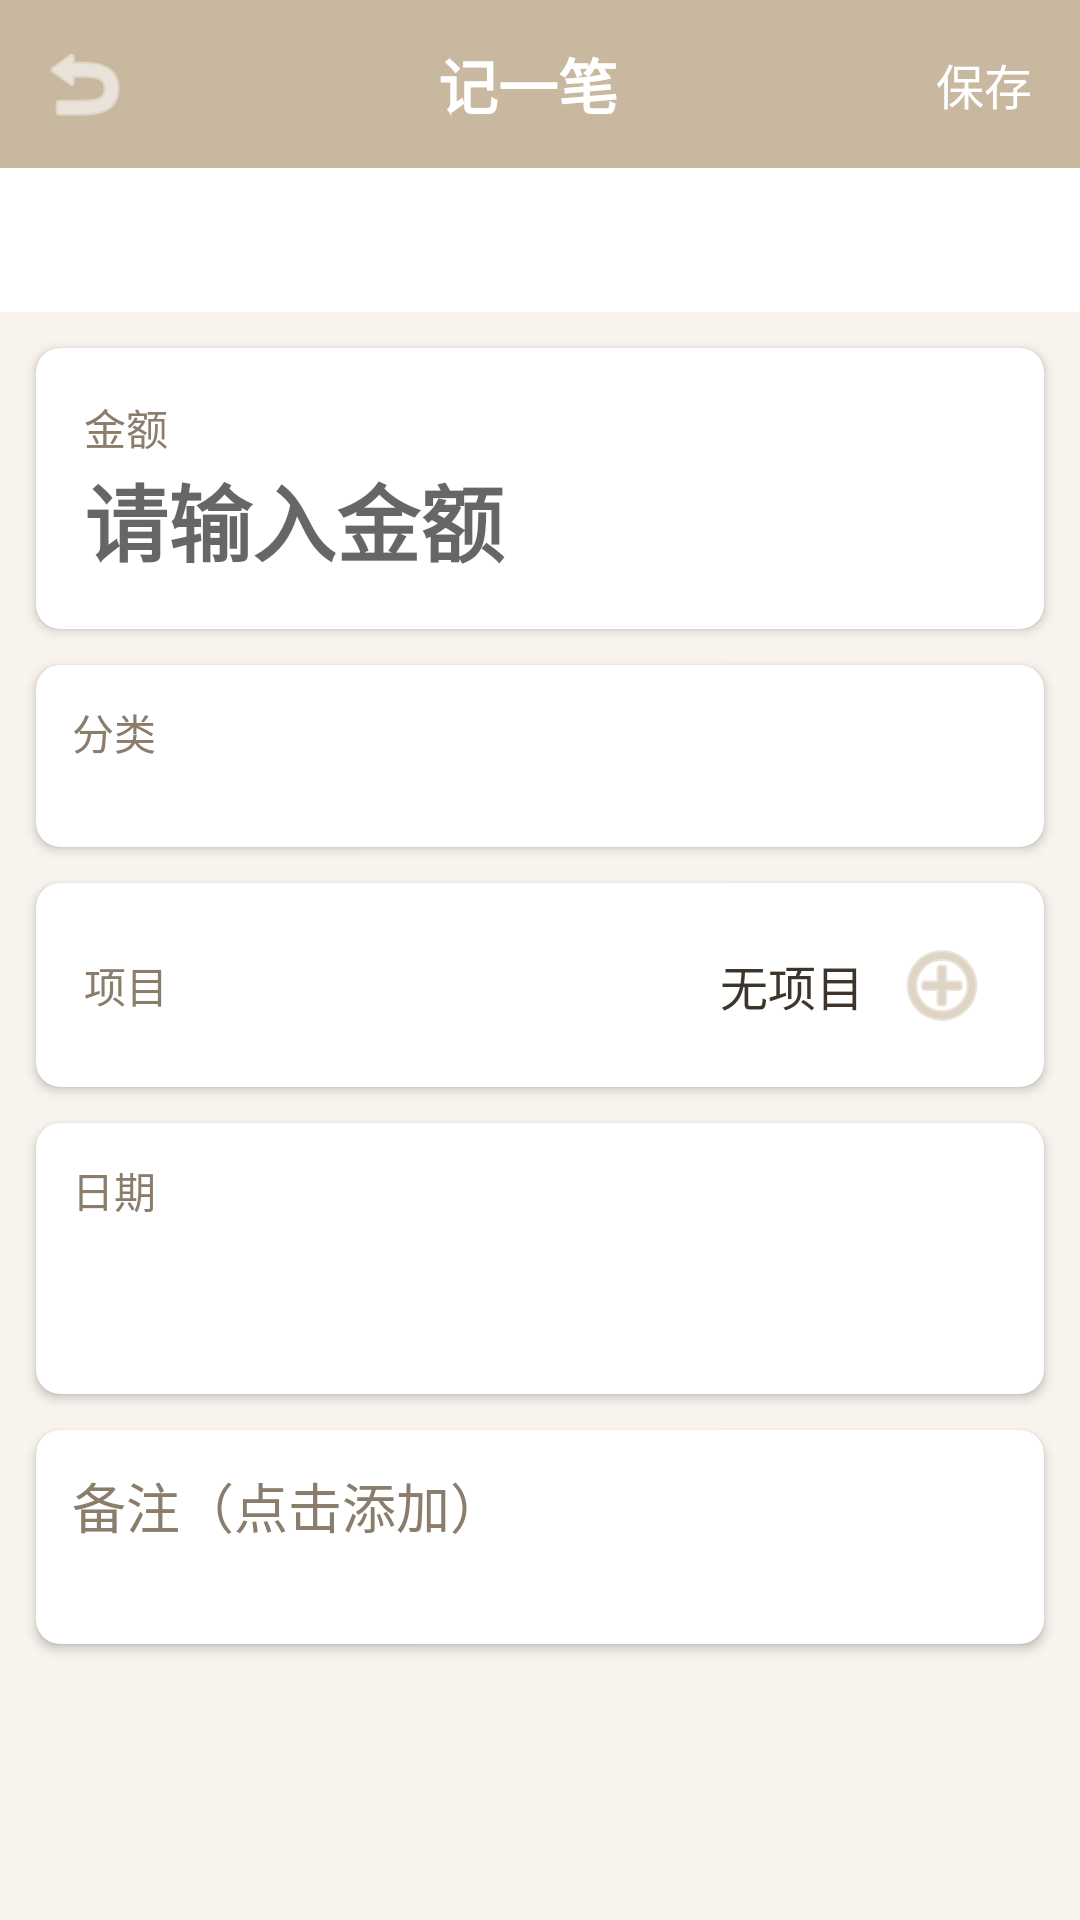

Icon bounding boxes for this 1080 × 1920 phone screenshot, format {"x1": x1, "y1": y1, "x2": x2, "y2": y2}:
add: {"x1": 907, "y1": 950, "x2": 977, "y2": 1021}
revert: {"x1": 51, "y1": 54, "x2": 119, "y2": 116}
